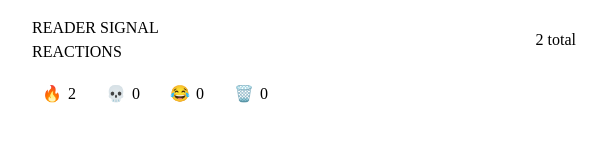
Test: content reaction strip posts recastable reactions
The width and height of the screenshot is (609, 160).
Expected: the text "2 total" is shown, top-left (536, 28), bottom-right (576, 52)
Click the button named "skull reaction" at (124, 94), box top-left (96, 72), bottom-right (152, 116)
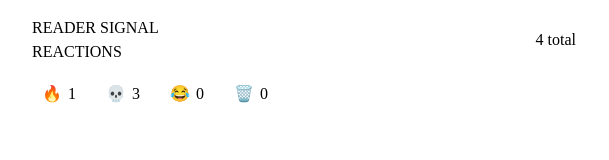
Now the text "4 total" is shown, box top-left (536, 28), bottom-right (576, 52)
